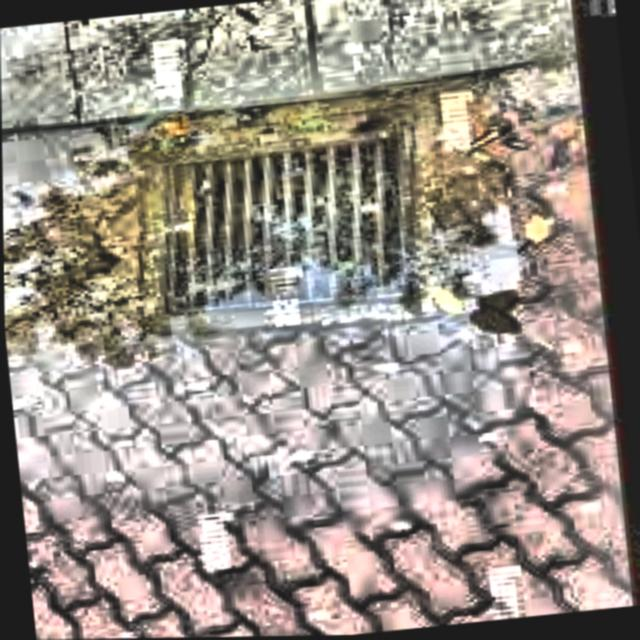clogged_drains: (157, 117, 483, 316)
